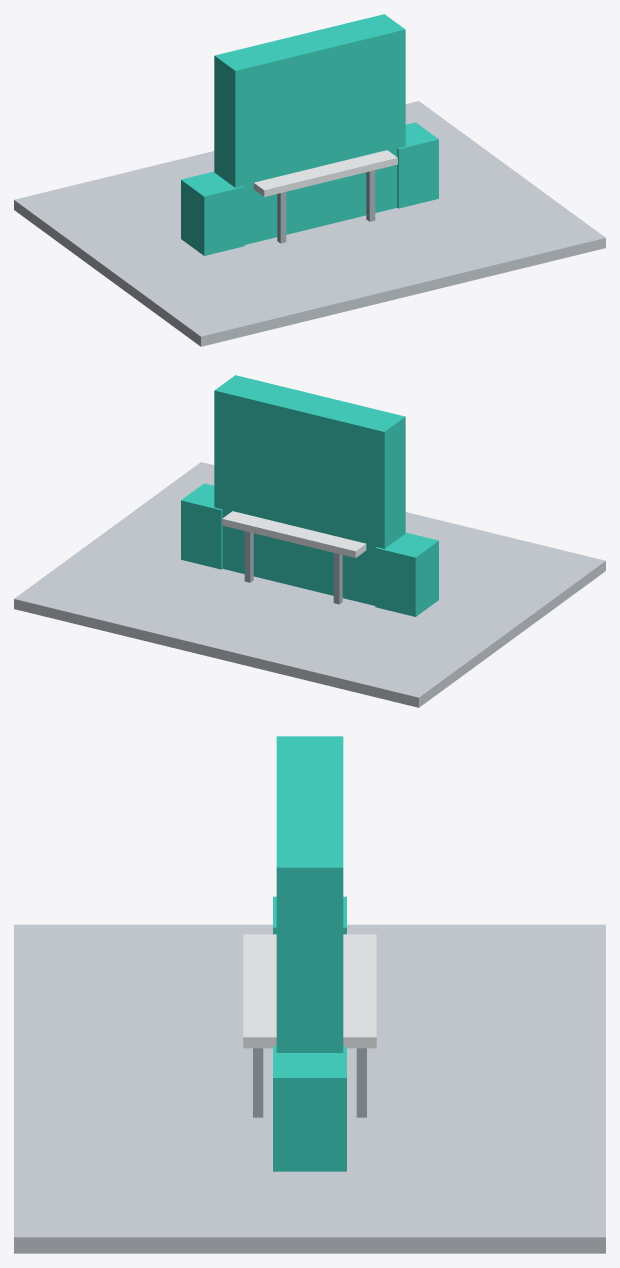
The picture shows the model from 3 angles, top to bottom: view 1: azimuth 30°, elevation 25°; view 2: azimuth 150°, elevation 25°; view 3: azimuth 270°, elevation 25°; orthographic projection. The views are drawn at different scales.
Visible parts, largest first — view 1: Exhibition Booth Concept; view 2: Exhibition Booth Concept; view 3: Exhibition Booth Concept.
Boxes of the visible parts, <box> form: Exhibition Booth Concept: <box>14,14,605,346</box>; Exhibition Booth Concept: <box>14,375,605,707</box>; Exhibition Booth Concept: <box>14,736,605,1253</box>.
Size of the model in its own units: 5 by 2.2 by 4.
